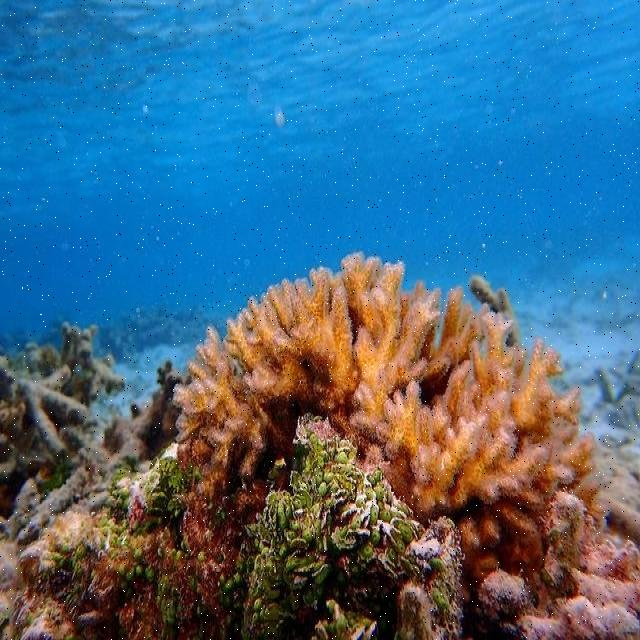reefs: (172, 251, 611, 602), (0, 441, 288, 639), (240, 412, 464, 638), (0, 321, 191, 542), (475, 485, 639, 639)
